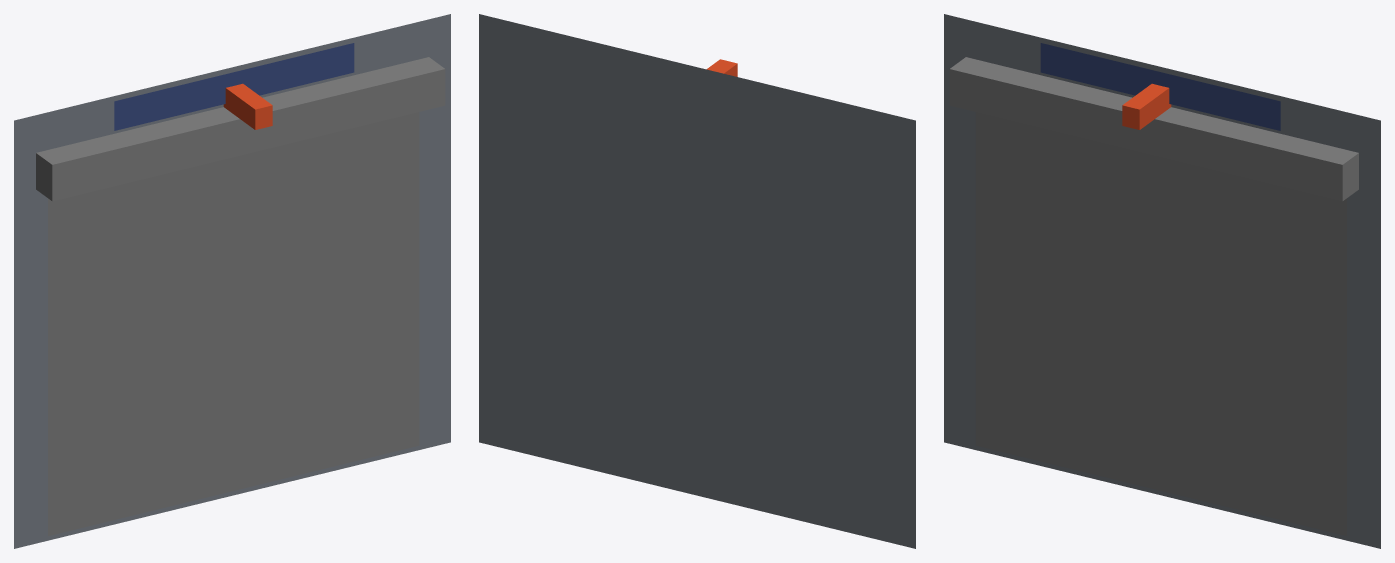
The model's file is entrance.fbx.
The picture shows the model from 3 angles, left to right: view 1: azimuth 30°, elevation 25°; view 2: azimuth 150°, elevation 25°; view 3: azimuth 330°, elevation 25°; orthographic projection.
Visible parts, largest first — view 1: a2004/200/entrance; view 2: a2004/200/entrance; view 3: a2004/200/entrance.
Part boxes in pixels (box(x1,y1,x2,y2)): a2004/200/entrance: box(14, 14, 450, 548); a2004/200/entrance: box(479, 14, 915, 548); a2004/200/entrance: box(944, 14, 1380, 548).
Bounding box in the file's own units: 4 × 3.75 × 0.5.
